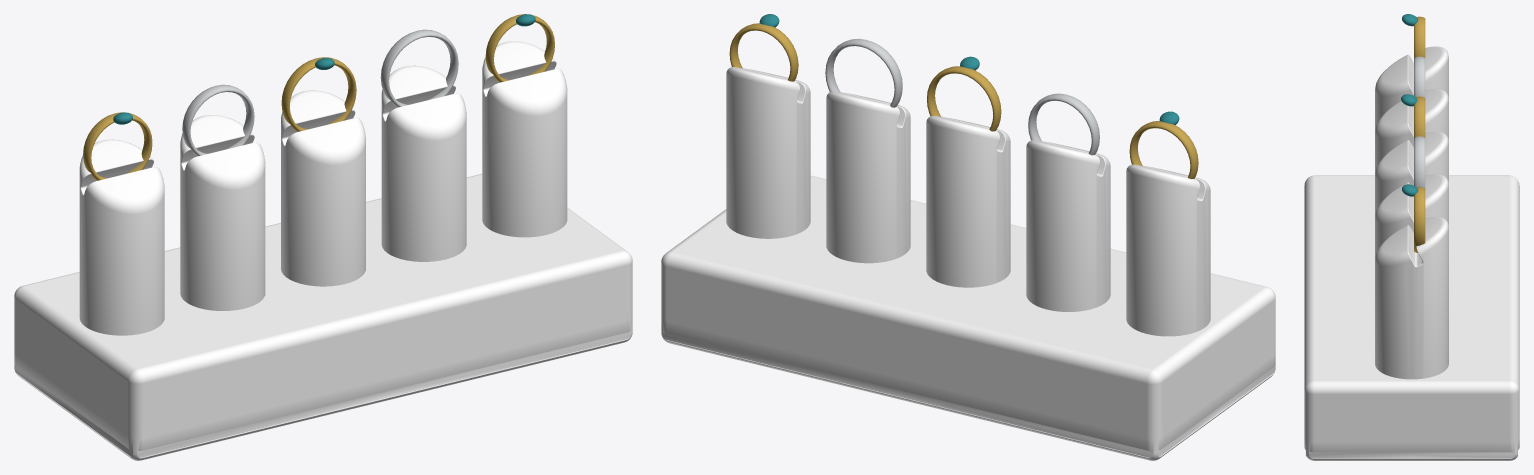
File: REGINA_anelli.draco.glb
The picture shows the model from 3 angles, left to right: view 1: azimuth 30°, elevation 25°; view 2: azimuth 150°, elevation 25°; view 3: azimuth 270°, elevation 25°; orthographic projection. The views are drawn at different scales.
Visible parts, largest first — view 1: plinto, corpo_gruppo, pezzo03, pezzo02, pezzo01, pezzo04, pezzo00; view 2: plinto, corpo_gruppo, pezzo02, pezzo03, pezzo00, pezzo04, pezzo01; view 3: plinto, corpo_gruppo, pezzo04, pezzo02, pezzo00, pezzo03, pezzo01.
Part boxes in pixels (bbox=[...]): plinto: bbox=[14, 174, 632, 460]; corpo_gruppo: bbox=[79, 41, 567, 335]; pezzo03: bbox=[380, 29, 458, 107]; pezzo02: bbox=[281, 57, 356, 131]; pezzo01: bbox=[182, 84, 254, 156]; pezzo04: bbox=[485, 14, 554, 82]; pezzo00: bbox=[83, 112, 152, 180]; plinto: bbox=[661, 175, 1275, 460]; corpo_gruppo: bbox=[726, 67, 1210, 336]; pezzo02: bbox=[927, 56, 1001, 131]; pezzo03: bbox=[825, 38, 902, 107]; pezzo00: bbox=[1129, 111, 1198, 178]; pezzo04: bbox=[729, 14, 798, 81]; pezzo01: bbox=[1028, 93, 1099, 155]; plinto: bbox=[1304, 175, 1519, 460]; corpo_gruppo: bbox=[1375, 46, 1448, 379]; pezzo04: bbox=[1402, 184, 1425, 252]; pezzo02: bbox=[1401, 94, 1425, 137]; pezzo00: bbox=[1402, 14, 1425, 57]; pezzo03: bbox=[1414, 136, 1425, 188]; pezzo01: bbox=[1414, 56, 1425, 97].
Size of the model in its own units: 0.15 by 0.0862 by 0.064.
